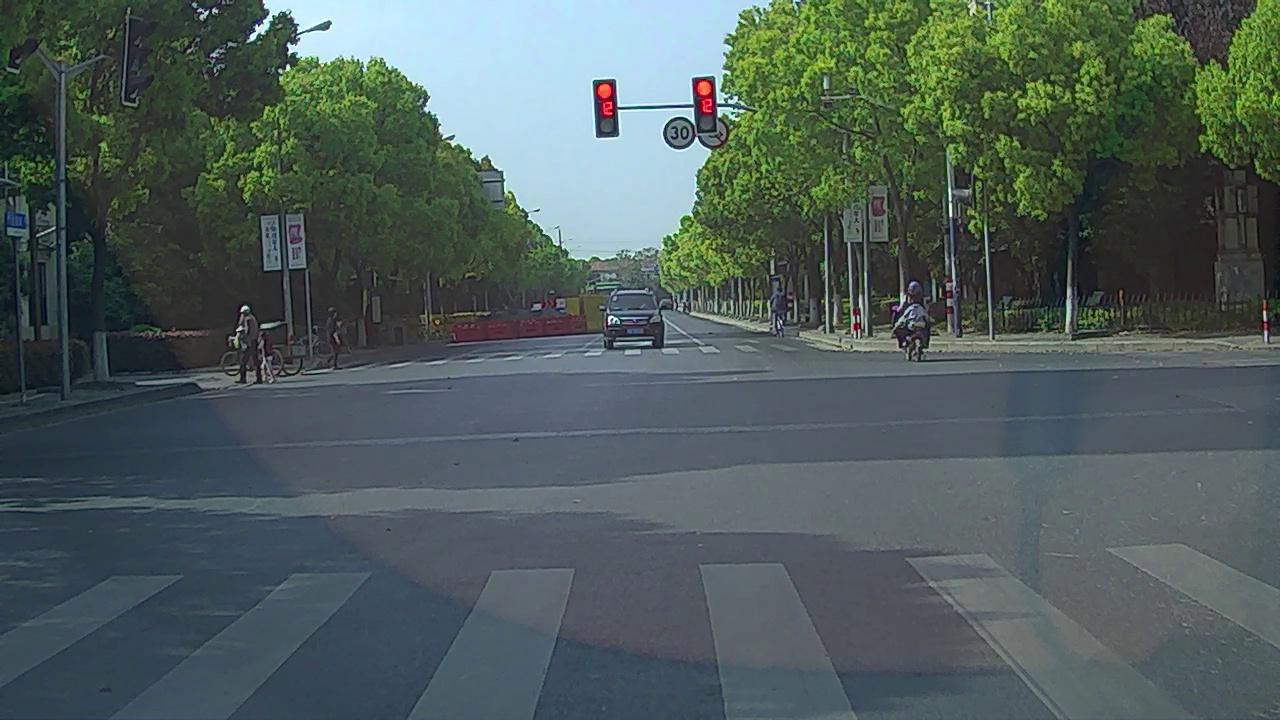traffic_light: (593, 81, 621, 137), (695, 80, 716, 133)
